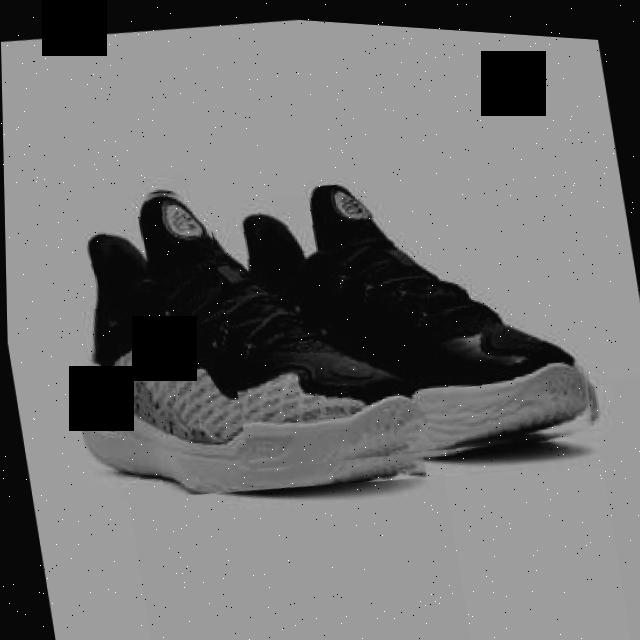shoe: (43, 148, 432, 519), (204, 142, 604, 485)
